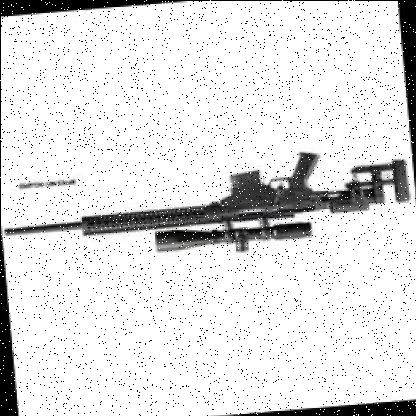rifle: (0, 130, 415, 281)
